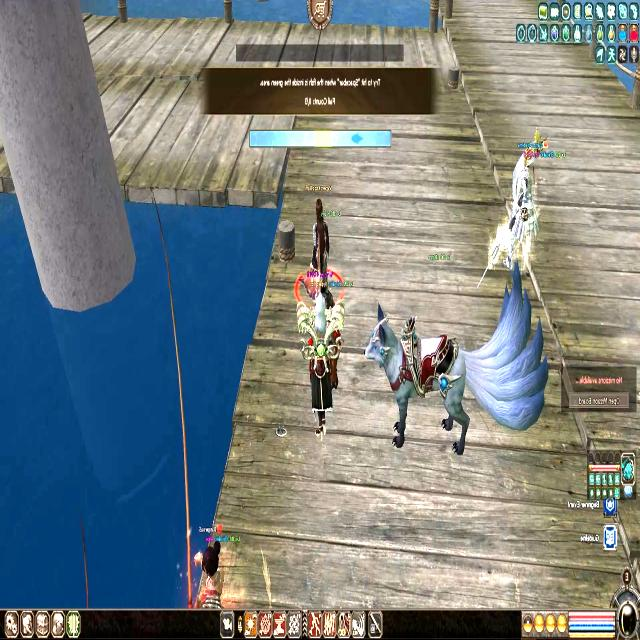fishes: (352, 132, 363, 144)
